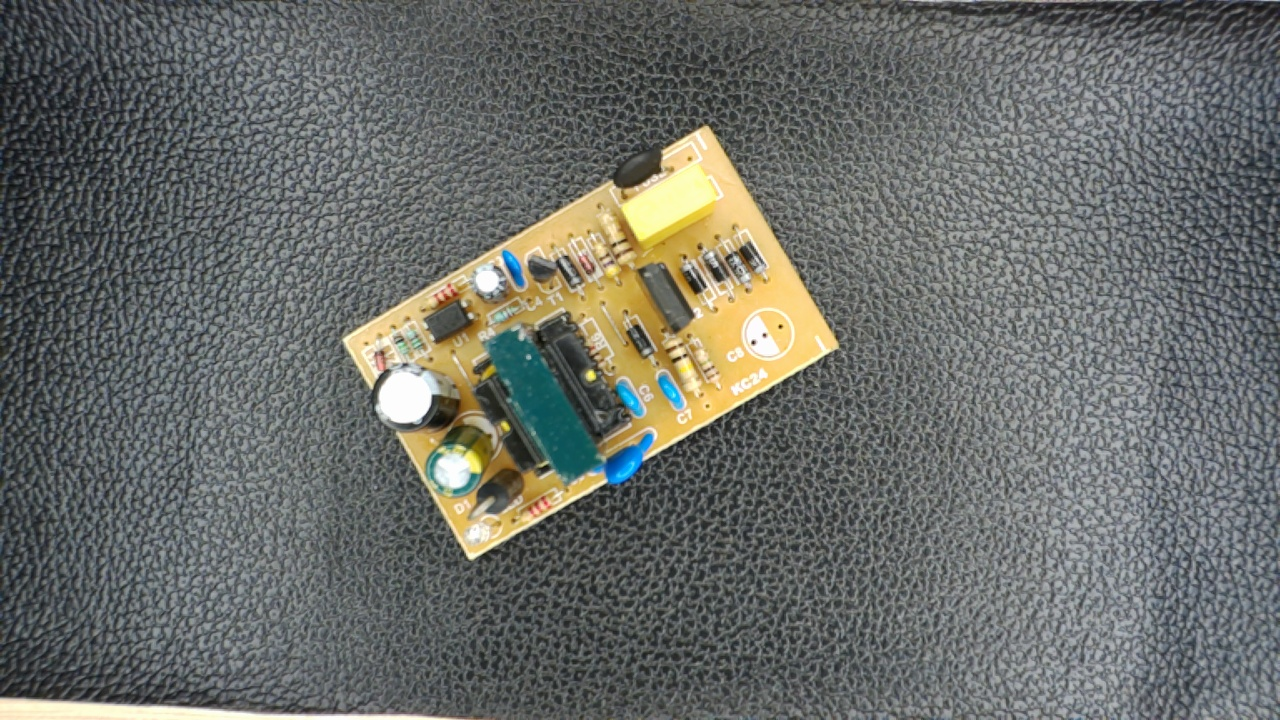fuse: (603, 150, 674, 200)
mov: (579, 429, 662, 485)
optocoupler: (413, 299, 480, 342)
